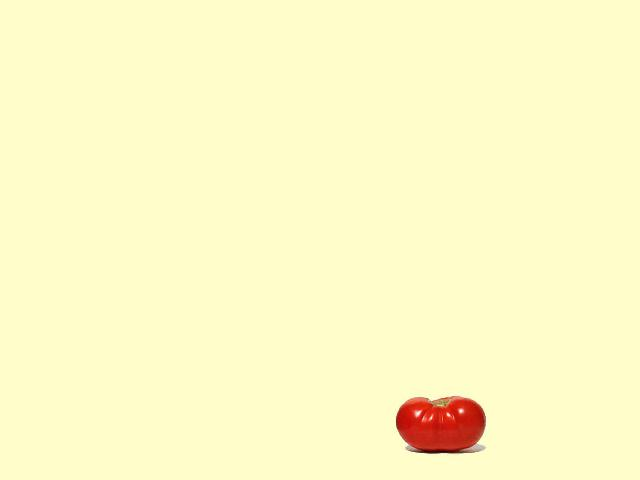tomato: (395, 396, 485, 451)
